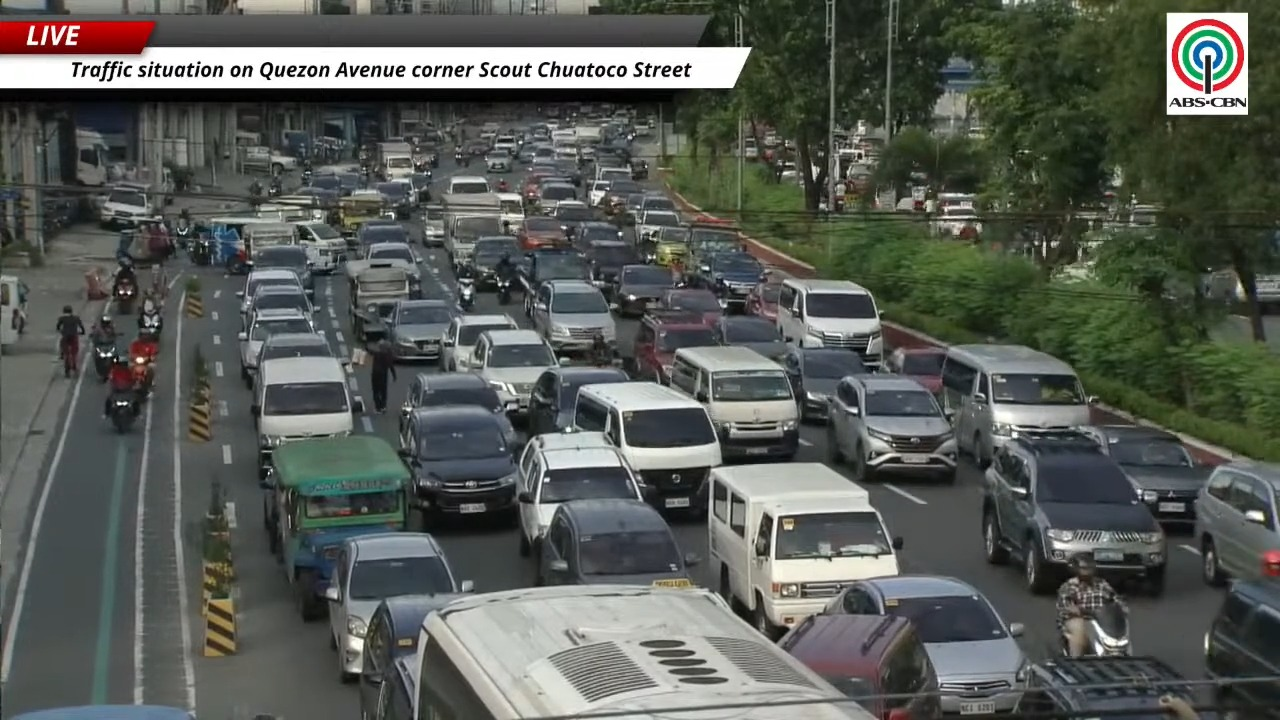bus: (405, 586, 872, 719)
car: (982, 432, 1167, 595), (823, 575, 1027, 713), (325, 532, 471, 681), (779, 615, 941, 719), (519, 432, 644, 556), (536, 499, 698, 587), (827, 374, 956, 482), (399, 405, 516, 523), (1078, 425, 1212, 527), (1018, 656, 1202, 717), (1204, 575, 1279, 719), (1194, 461, 1279, 585), (468, 329, 559, 414), (526, 367, 629, 436), (780, 347, 868, 420), (630, 310, 716, 384), (531, 280, 616, 354), (238, 308, 314, 387), (399, 372, 502, 430), (519, 247, 590, 316), (440, 314, 517, 371), (345, 242, 421, 296), (387, 299, 454, 359), (697, 252, 766, 310), (236, 268, 304, 323), (711, 315, 788, 361), (578, 240, 640, 297), (610, 262, 675, 316), (253, 245, 314, 301), (882, 347, 945, 393), (469, 235, 522, 289), (245, 285, 314, 324), (258, 333, 334, 366), (656, 287, 723, 324), (352, 298, 399, 343), (516, 215, 565, 250), (572, 221, 628, 250), (374, 179, 415, 218), (600, 179, 643, 215), (355, 219, 408, 247), (552, 201, 594, 235), (637, 210, 680, 240), (538, 182, 577, 215), (519, 164, 553, 201), (615, 192, 646, 225), (423, 205, 444, 247), (554, 158, 582, 187), (588, 178, 611, 206), (652, 226, 689, 243), (485, 151, 512, 173), (493, 135, 519, 156), (629, 158, 648, 180)
motorcycle: (1081, 603, 1131, 656), (111, 393, 136, 433), (94, 342, 118, 381), (131, 355, 153, 396), (138, 311, 163, 342), (114, 283, 137, 314), (188, 236, 212, 265), (174, 218, 194, 248), (457, 277, 474, 310), (496, 278, 511, 305), (268, 182, 282, 197), (301, 170, 312, 185), (497, 179, 508, 192)
truck: (705, 463, 902, 639), (262, 435, 410, 620), (348, 261, 411, 340), (442, 193, 503, 267), (74, 127, 109, 186), (239, 145, 296, 174), (378, 142, 415, 179), (162, 137, 192, 167)
